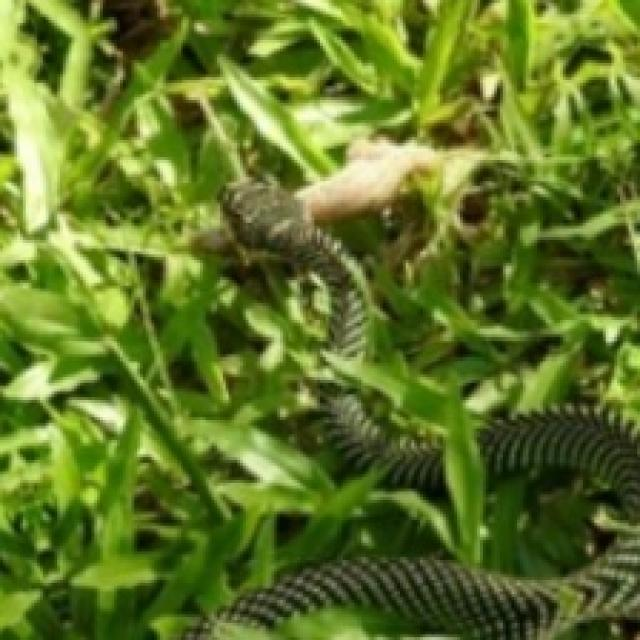paradise tree snake: (183, 414, 637, 637), (226, 183, 366, 357), (328, 394, 444, 494)
